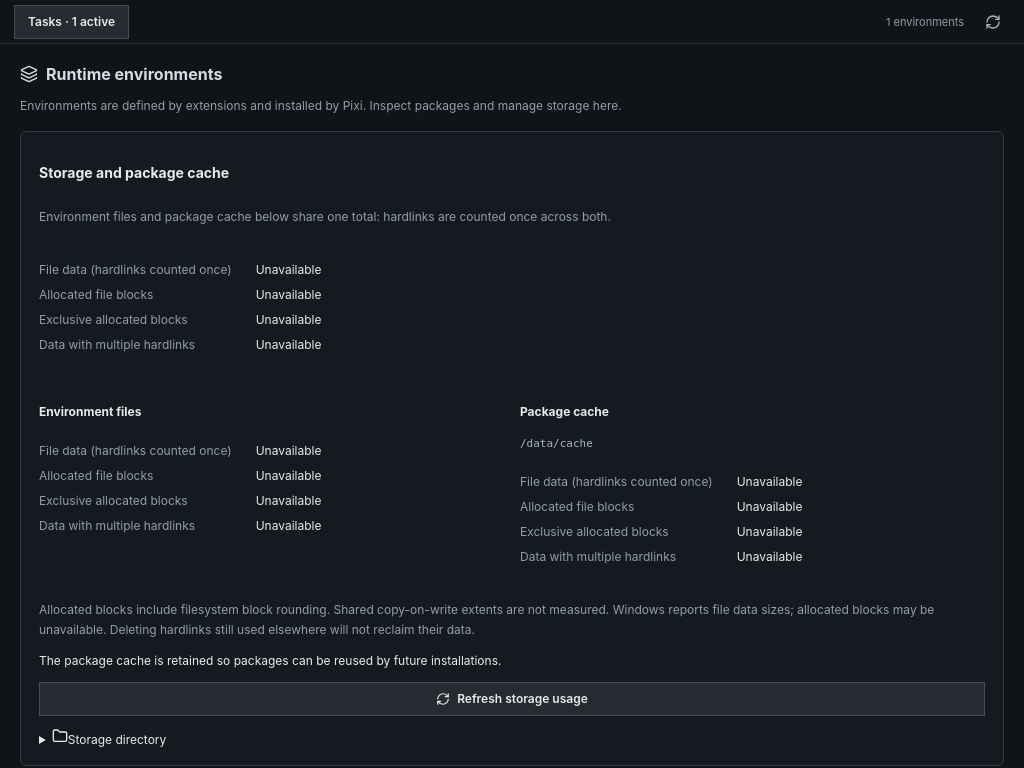
Test: updates environment and storage when a queued task completes without a page refresh
Expected: the element "Maintenance tasks" is not shown
Click the button "Tasks · 1 active" at (72, 22), box left=14, top=4, right=129, bottom=38
Wait 1000 ms
(page scrolled)
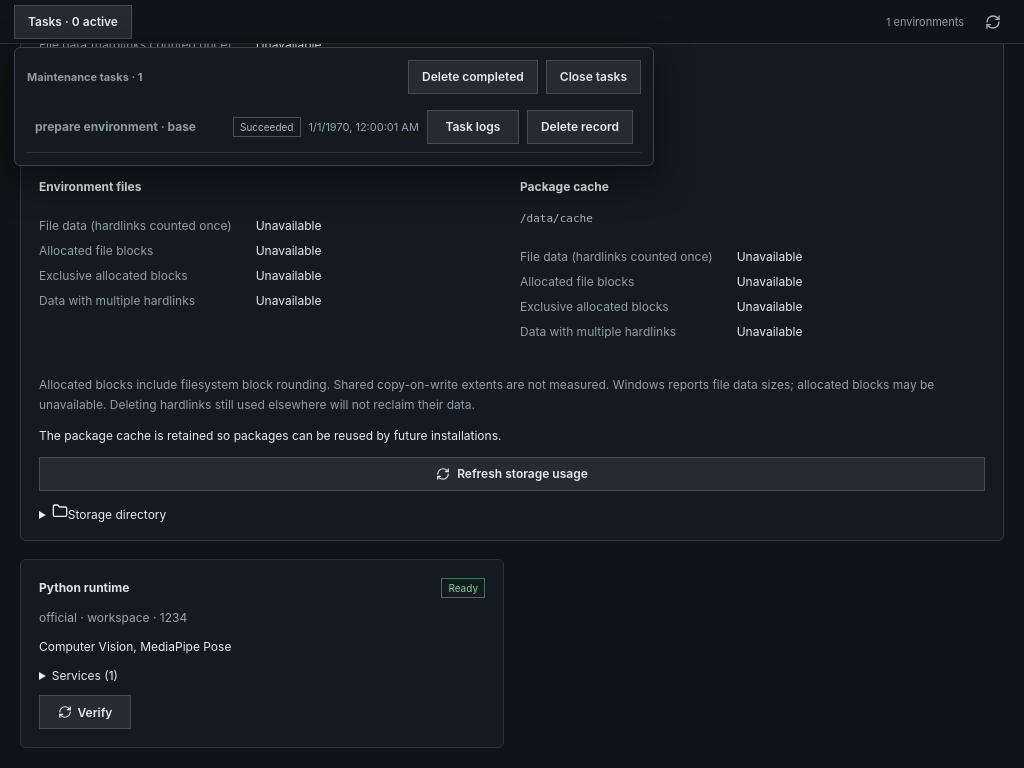
Now the text "succeeded" is shown, box left=233, top=116, right=300, bottom=136
Now the text "ready" is shown, box left=441, top=578, right=485, bottom=598
